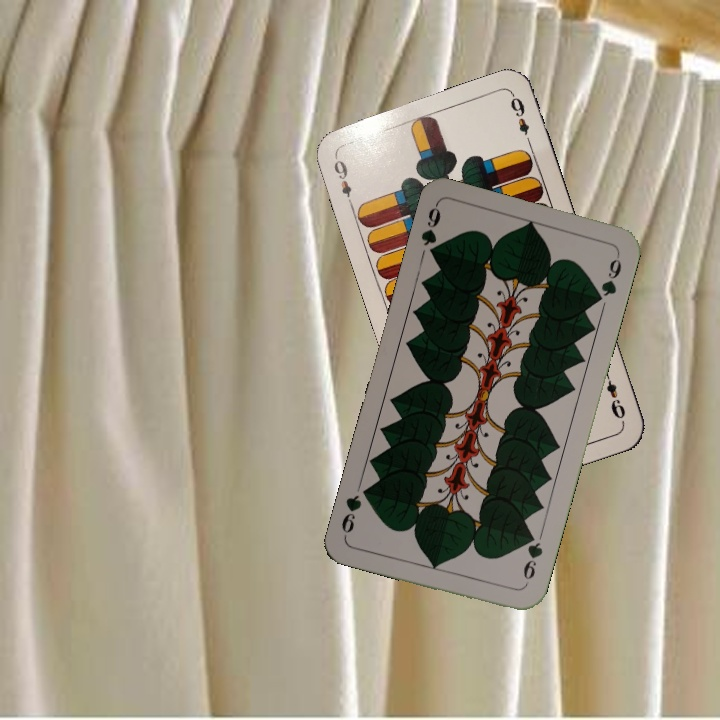E9: (600, 367, 628, 424), (329, 152, 356, 210)
G9: (417, 201, 443, 262), (519, 528, 546, 583)
